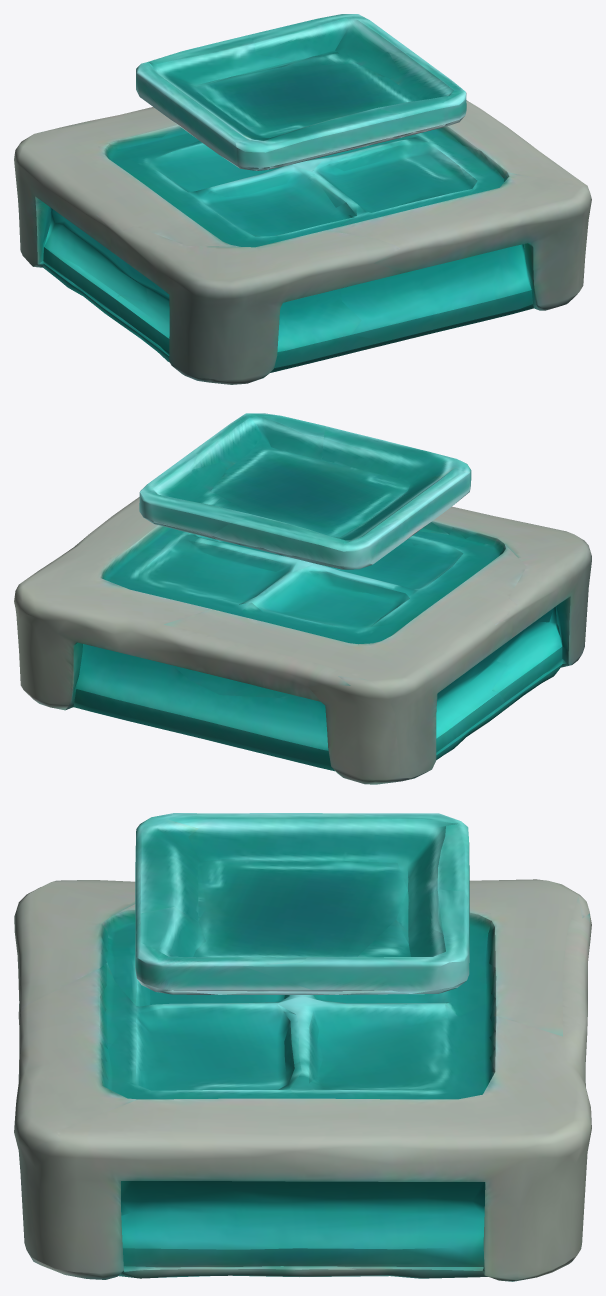
The model's file is m2LabPlatformV2.glb.
3 renders of one model, top to bottom at view 1: azimuth 30°, elevation 25°; view 2: azimuth 150°, elevation 25°; view 3: azimuth 270°, elevation 25°, orthographic. The views are drawn at different scales.
Parts seen in each view (by area): view 1: model; view 2: model; view 3: model.
Part boxes in pixels (x1,y1,x2,y2): model: [14, 14, 591, 384]; model: [14, 413, 591, 784]; model: [14, 813, 591, 1281].
Bounding box in the file's own units: 1.9 × 0.8721 × 1.73.
1 material, 1 textured.
